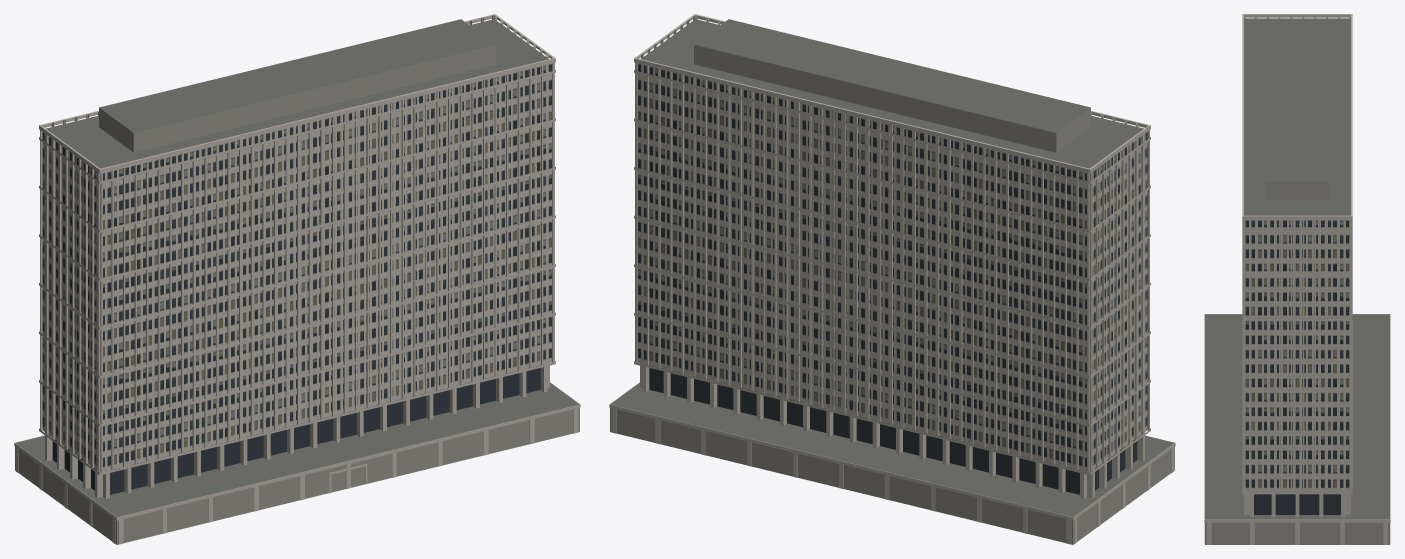
File: burton_federal_building.glb
3 views of the same model, side by side, from view 1: azimuth 30°, elevation 25°; view 2: azimuth 150°, elevation 25°; view 3: azimuth 270°, elevation 25° (orthographic). The views are drawn at different scales.
Visible parts, largest first — view 1: burton_federal_building; view 2: burton_federal_building; view 3: burton_federal_building.
Boxes of the visible parts, x1,y1,x2,y2 form: burton_federal_building: (14,14,580,544); burton_federal_building: (609,14,1175,544); burton_federal_building: (1204,14,1390,544).
Bounding box in the file's own units: 123 × 95 × 46.93.
Materials: 2 (2 with a texture image).
